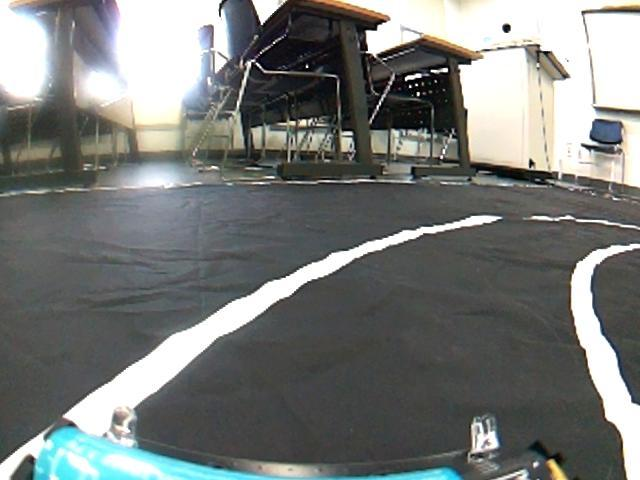right: (3, 198, 640, 480)
